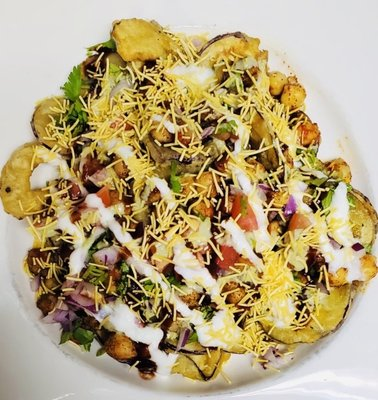sandwich: (5, 23, 378, 386)
